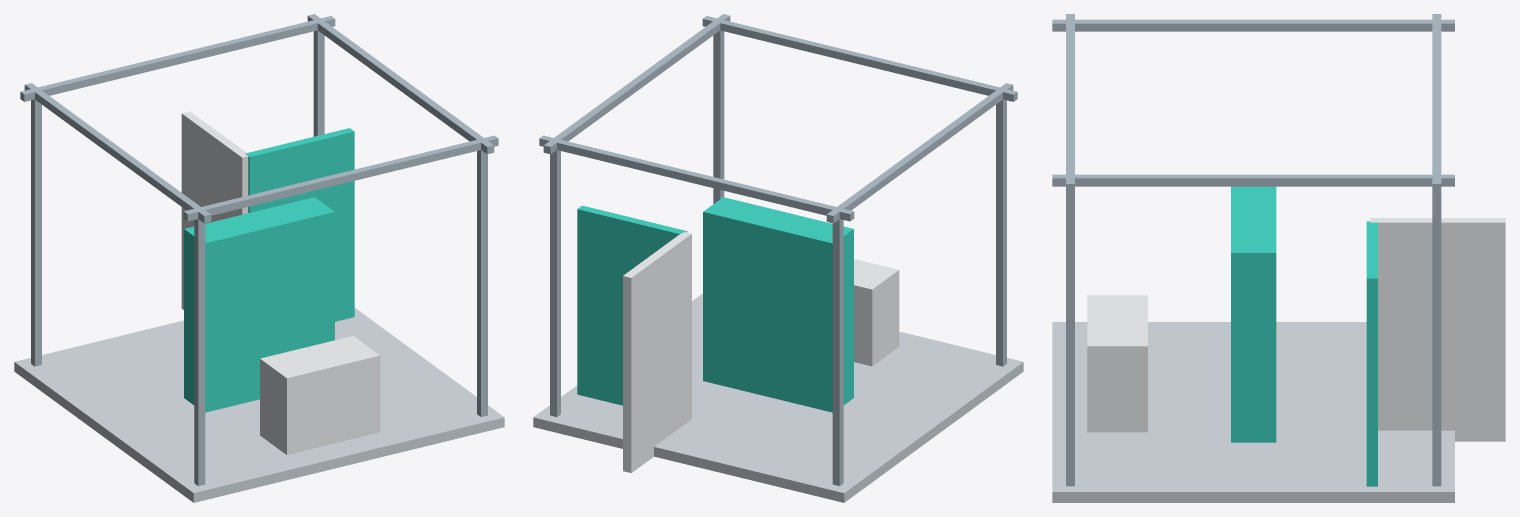
3 renders of one model, left to right at view 1: azimuth 30°, elevation 25°; view 2: azimuth 150°, elevation 25°; view 3: azimuth 270°, elevation 25°, orthographic. The views are drawn at different scales.
Parts seen in each view (by area): view 1: Exhibition Booth Concept; view 2: Exhibition Booth Concept; view 3: Exhibition Booth Concept.
Part boxes in pixels (x1,y1,x2,y2): Exhibition Booth Concept: [14, 14, 504, 502]; Exhibition Booth Concept: [533, 14, 1023, 502]; Exhibition Booth Concept: [1052, 14, 1505, 502].
Bounding box in the file's own units: 4 × 3.49 × 4.51.
